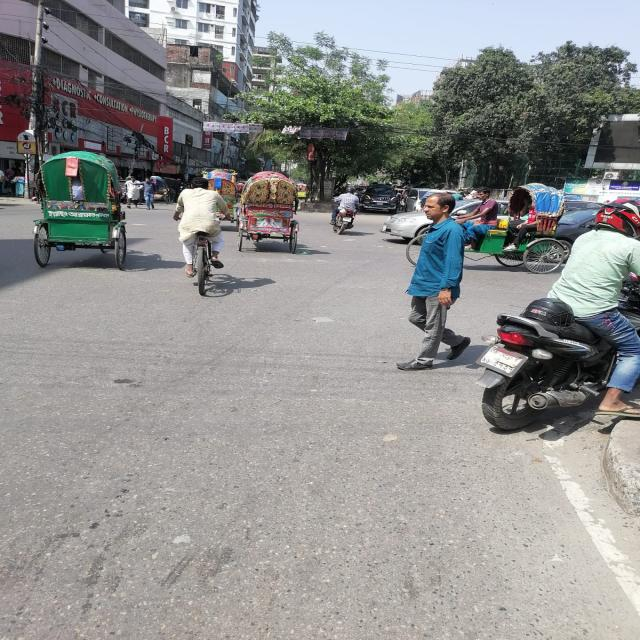person: (393, 193, 474, 373), (126, 176, 157, 210)
